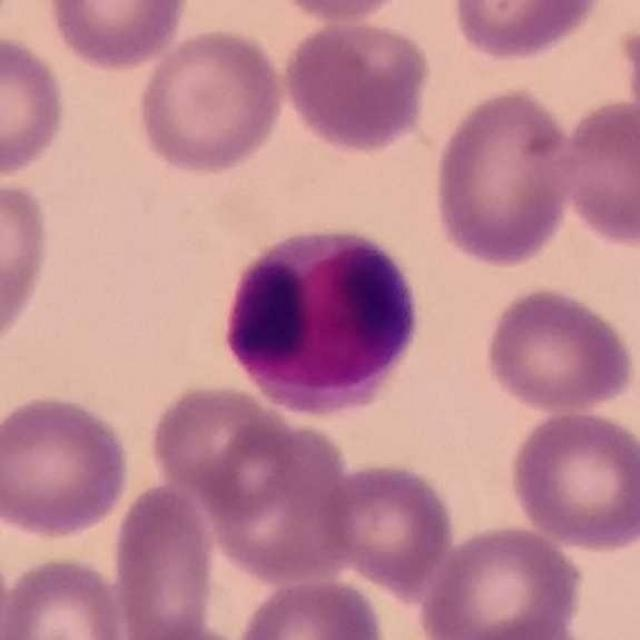Lymphocyte: (214, 212, 424, 412)
RBC: (428, 84, 578, 270), (198, 414, 355, 587), (132, 25, 288, 178), (278, 14, 435, 157), (480, 283, 638, 415), (0, 390, 136, 541), (416, 521, 588, 640), (504, 406, 640, 554), (145, 378, 295, 510), (320, 458, 458, 594), (108, 476, 221, 640), (554, 94, 640, 252), (0, 552, 130, 640), (40, 0, 194, 73), (447, 0, 612, 65), (0, 30, 71, 181), (232, 573, 388, 640), (0, 170, 55, 358), (265, 0, 416, 26), (617, 0, 640, 153), (111, 619, 256, 640), (0, 539, 18, 639), (0, 0, 22, 41)
